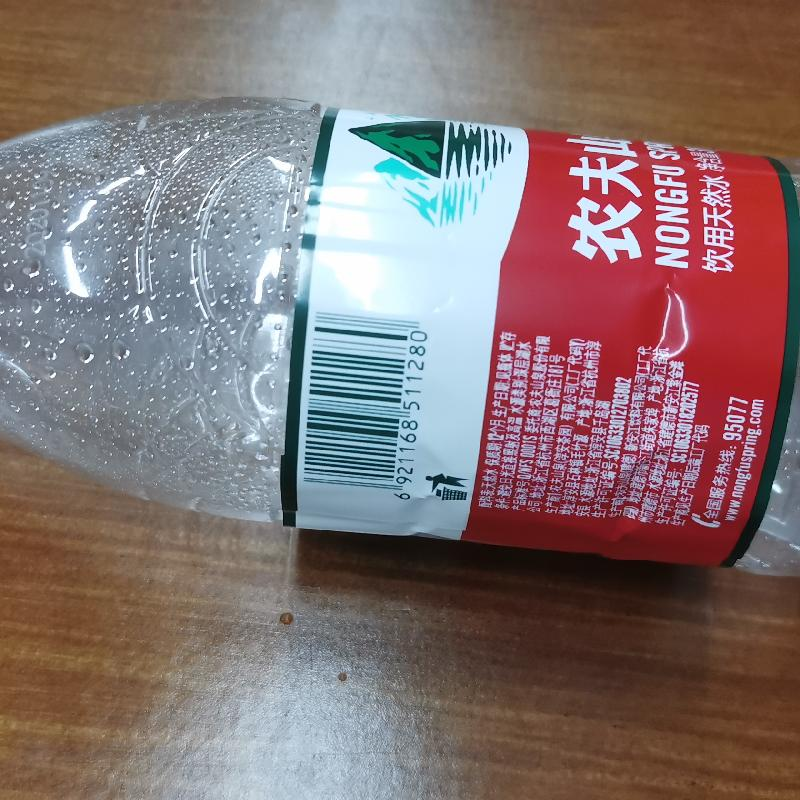bottles: (4, 93, 799, 582)
